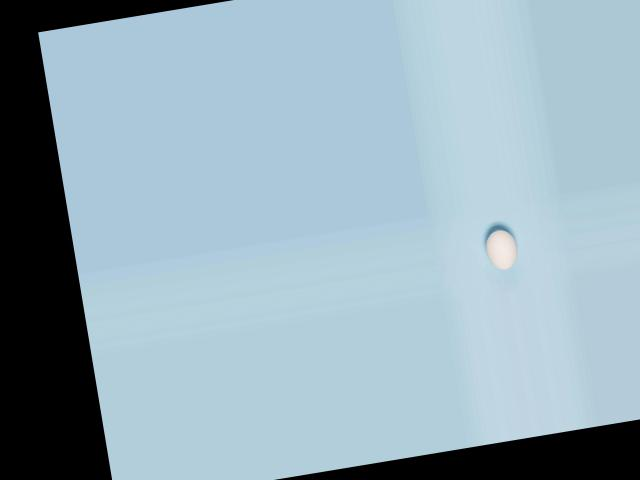egg: (483, 227, 519, 272)
